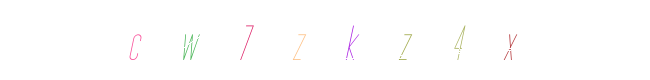4: (377, 0, 457, 80)
7: (262, 0, 342, 80)
C: (149, 0, 229, 80)
K: (285, 0, 365, 80)
W: (209, 0, 289, 80)
X: (392, 0, 472, 80)
Z: (283, 0, 363, 80), (311, 0, 391, 80)
